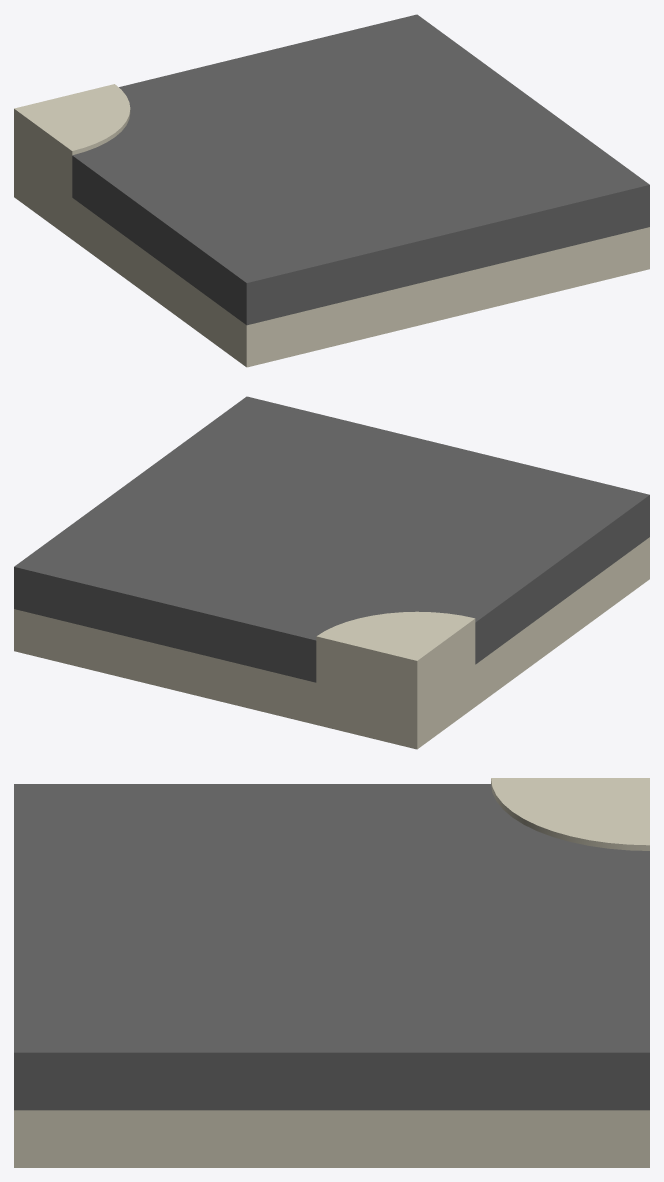
File: street-curve-stone-small.obj
The picture shows the model from 3 angles, top to bottom: view 1: azimuth 30°, elevation 25°; view 2: azimuth 150°, elevation 25°; view 3: azimuth 270°, elevation 25°; orthographic projection. The views are drawn at different scales.
Parts seen in each view (by area): view 1: Mesh1_Group1_Model.071; view 2: Mesh1_Group1_Model.071; view 3: Mesh1_Group1_Model.071.
Part boxes in pixels (left/top/right/bottom): Mesh1_Group1_Model.071: left=14, top=14, right=649, bottom=367; Mesh1_Group1_Model.071: left=14, top=396, right=649, bottom=749; Mesh1_Group1_Model.071: left=14, top=778, right=649, bottom=1167.
Size of the model in its own units: 3 by 0.63 by 3.
